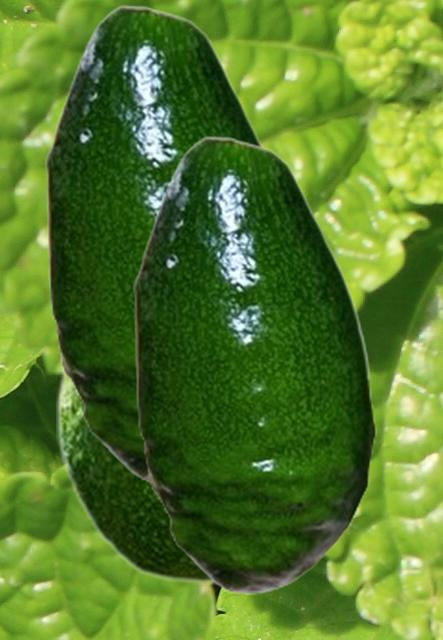avocado: (133, 135, 375, 593), (45, 4, 266, 482), (56, 366, 213, 583)
